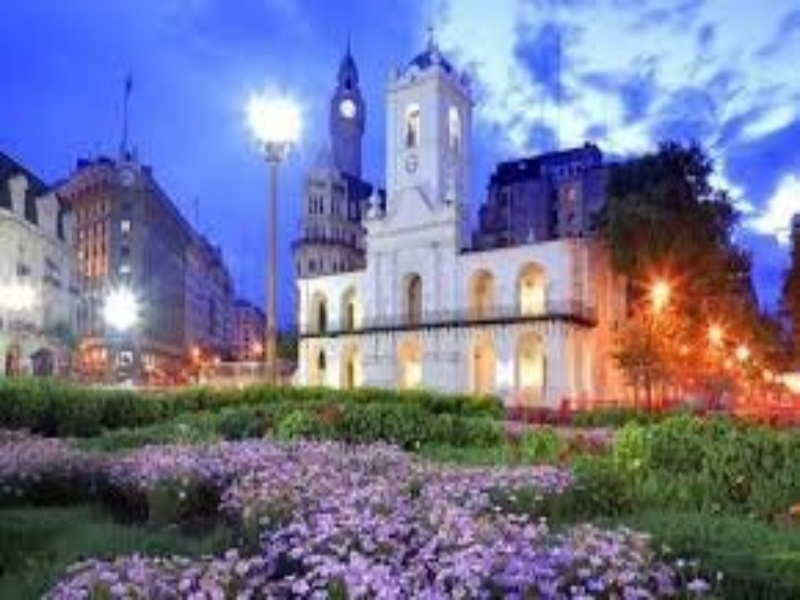cabildo: (291, 29, 602, 410)
